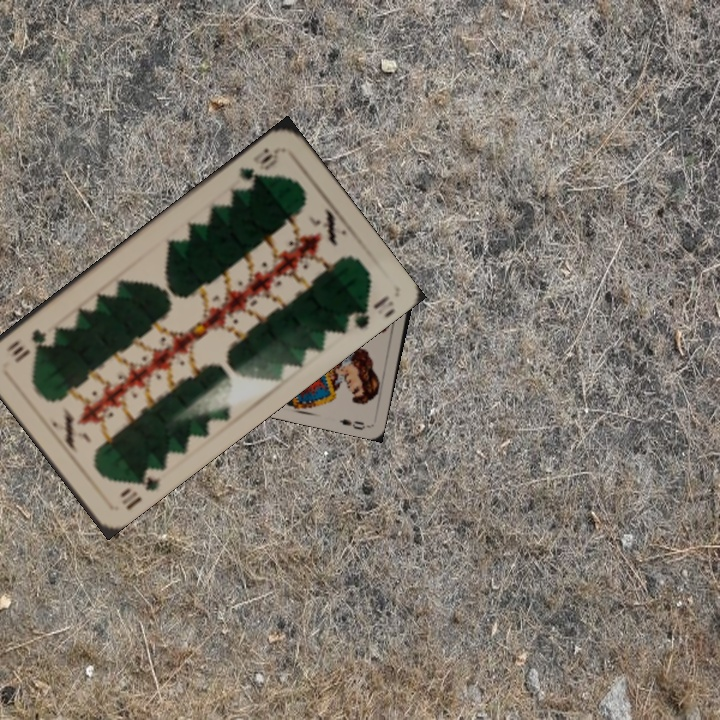G10: (116, 463, 163, 513), (235, 144, 281, 184)
